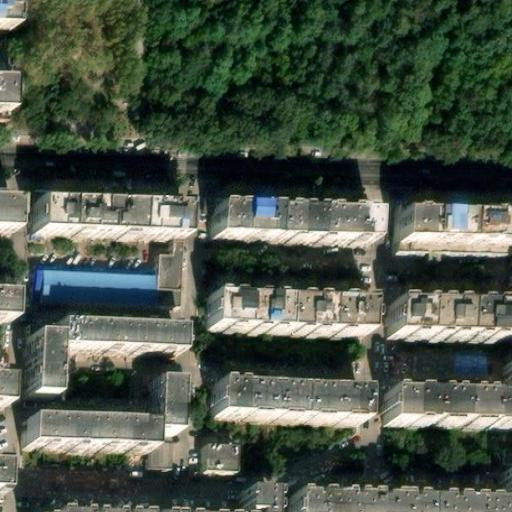building: (26, 320, 181, 395), (24, 383, 177, 454), (291, 473, 512, 512), (382, 366, 512, 430), (387, 280, 512, 343), (207, 295, 371, 334), (210, 382, 369, 422), (213, 202, 376, 241), (33, 198, 187, 236), (41, 269, 156, 307), (146, 384, 192, 475), (397, 211, 512, 245), (156, 236, 186, 305), (397, 242, 512, 254), (202, 445, 240, 474), (42, 500, 130, 512), (234, 491, 278, 512), (455, 355, 488, 379), (0, 73, 15, 111), (0, 197, 17, 230), (0, 368, 14, 404), (0, 289, 16, 320)
